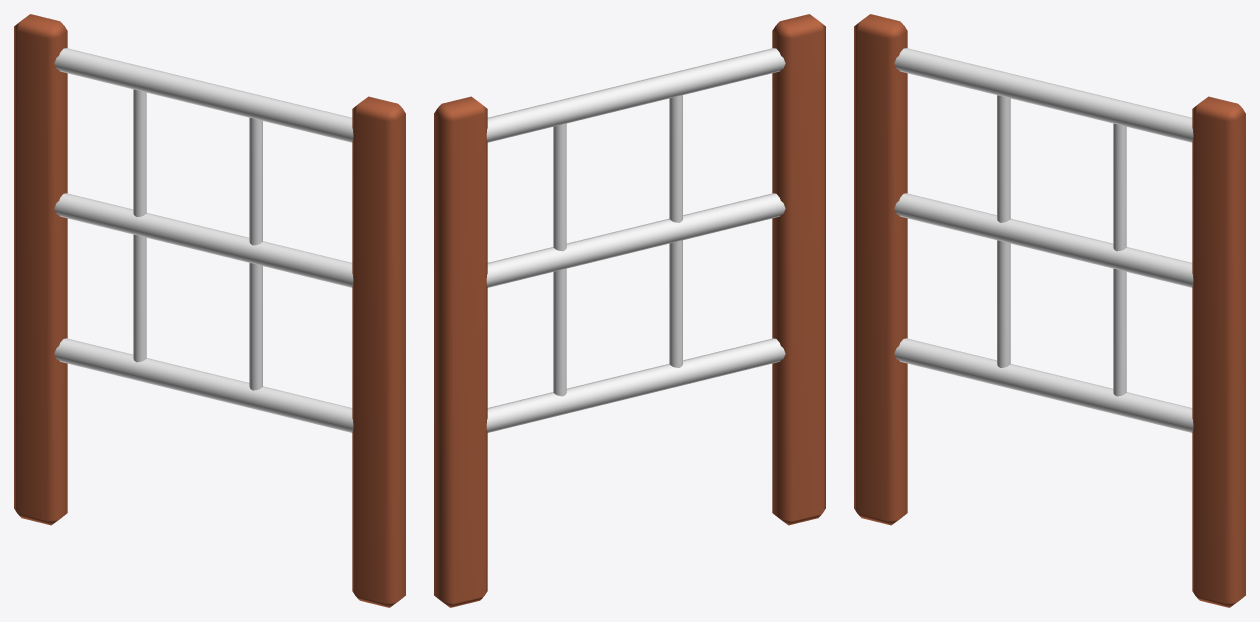
The picture shows the model from 3 angles, left to right: view 1: azimuth 90°, elevation 25°; view 2: azimuth 150°, elevation 25°; view 3: azimuth 270°, elevation 25°; orthographic projection.
Parts seen in each view (by area): view 1: fileler1; view 2: fileler1; view 3: fileler1.
Boxes of the visible parts, x1,y1,x2,y2 form: fileler1: [14, 14, 405, 607]; fileler1: [434, 14, 825, 607]; fileler1: [854, 14, 1245, 607].
Size of the model in its own units: 54.72 by 124 by 88.32.
